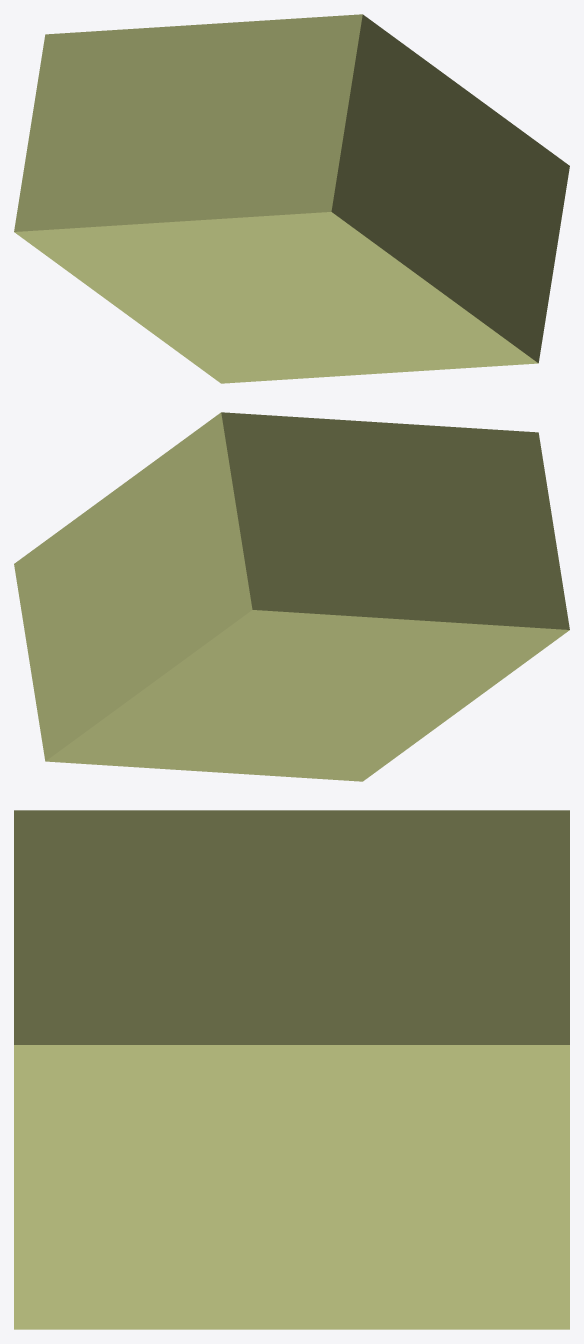
3 views of the same model, one above another, from view 1: azimuth 30°, elevation 25°; view 2: azimuth 150°, elevation 25°; view 3: azimuth 270°, elevation 25° (orthographic). The views are drawn at different scales.
Visible parts, largest first — view 1: 0_1_0_0_1_1_3_3_0_0_1; view 2: 0_1_0_0_1_1_3_3_0_0_1; view 3: 0_1_0_0_1_1_3_3_0_0_1.
Boxes of the visible parts, bbox=[...] form: 0_1_0_0_1_1_3_3_0_0_1: bbox=[14, 14, 569, 383]; 0_1_0_0_1_1_3_3_0_0_1: bbox=[14, 412, 569, 781]; 0_1_0_0_1_1_3_3_0_0_1: bbox=[14, 810, 569, 1329].
Bounding box in the file's own units: 8.75 × 5.93 × 9.
